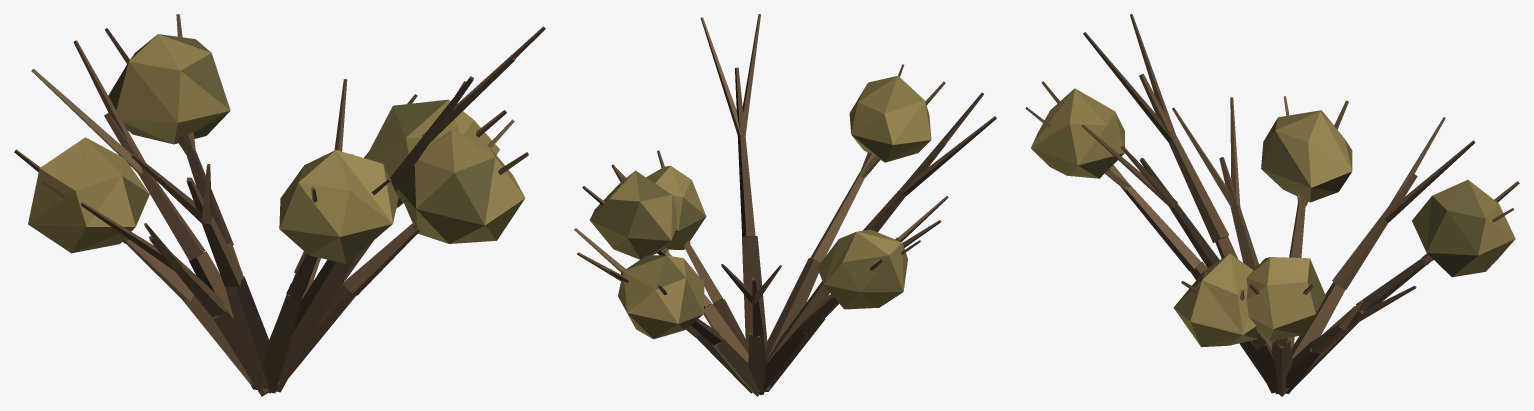
File: Dry_Shrub.obj
3 views of the same model, side by side, from view 1: azimuth 30°, elevation 25°; view 2: azimuth 150°, elevation 25°; view 3: azimuth 270°, elevation 25° (orthographic). The views are drawn at different scales.
Parts seen in each view (by area): view 1: Dry_Shrub; view 2: Dry_Shrub; view 3: Dry_Shrub.
Boxes of the visible parts, x1=… form: Dry_Shrub: x1=14, y1=14, x2=545, y2=396; Dry_Shrub: x1=574, y1=14, x2=996, y2=396; Dry_Shrub: x1=1025, y1=14, x2=1519, y2=396.
Size of the model in its own units: 1.08 by 0.887 by 1.26.
Materials: 1 (1 with a texture image).
